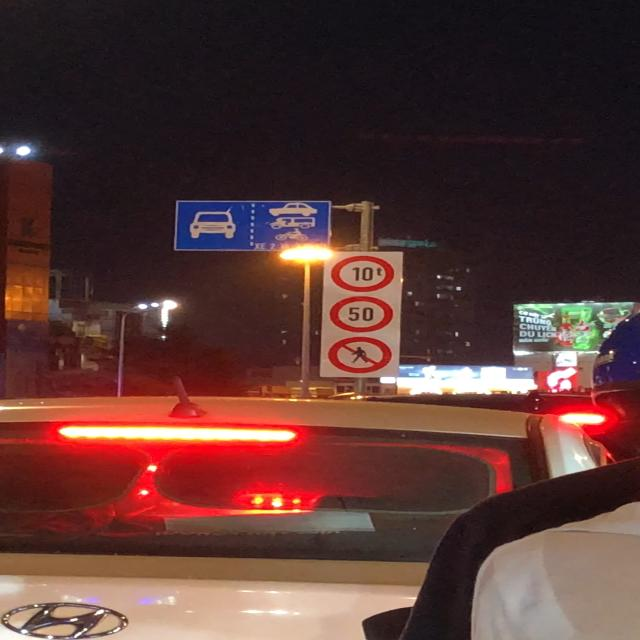Bien bao cam nguoi di bo: (327, 336, 393, 375)
Bien bao toc do toi da cho phep: (328, 296, 394, 333)
